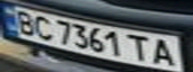1: (103, 28, 124, 57)
3: (69, 21, 90, 50)
6: (87, 26, 106, 54)
7: (51, 18, 75, 46)
A: (148, 36, 181, 69)
B: (9, 7, 39, 35)
C: (30, 12, 57, 41)
T: (124, 32, 154, 63)
